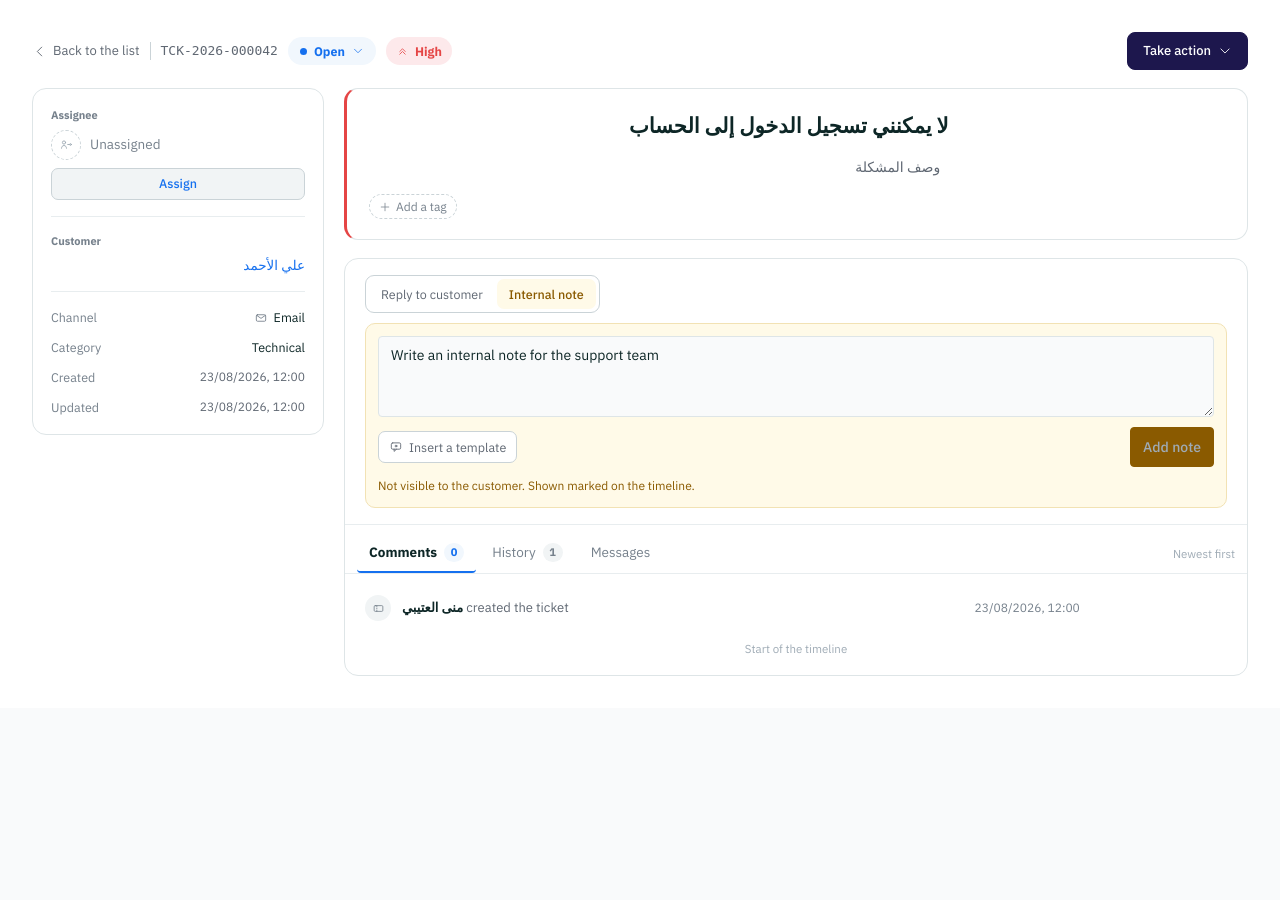
Test case: AC-2 — only allowedTransitions render, and an empty array renders none › offers exactly what the server sent
Expected: the text "TCK-2026-000042" is shown, [160, 41, 278, 61]
Click the button "Open".
click(332, 51)  # box [288, 37, 376, 65]
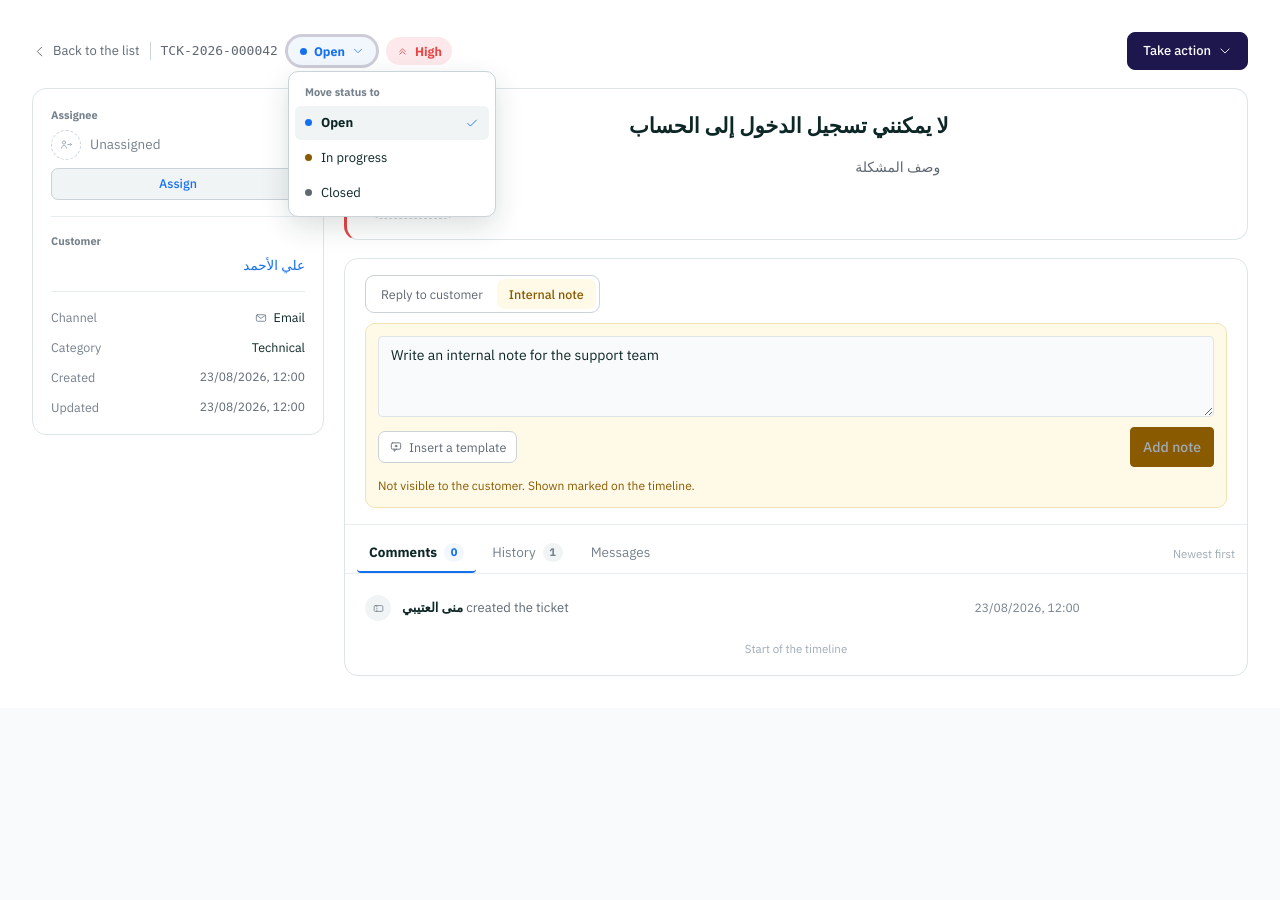
Expected: the menu item "In progress" is shown, [295, 141, 489, 175]
Expected: the menu item "Closed" is shown, [295, 176, 489, 210]
